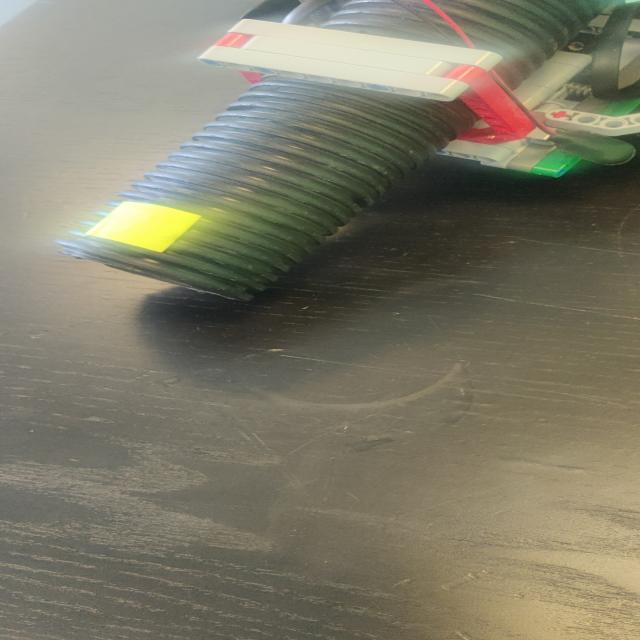robot-front: (70, 93, 419, 296)
